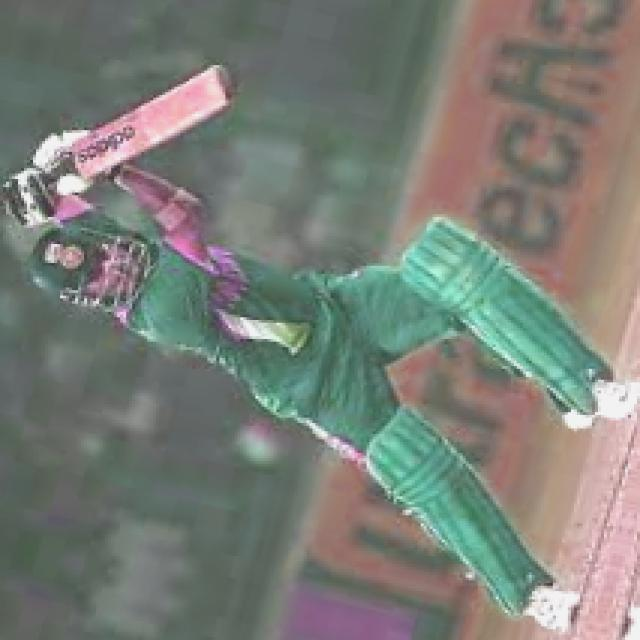toe: (178, 63, 250, 120)
